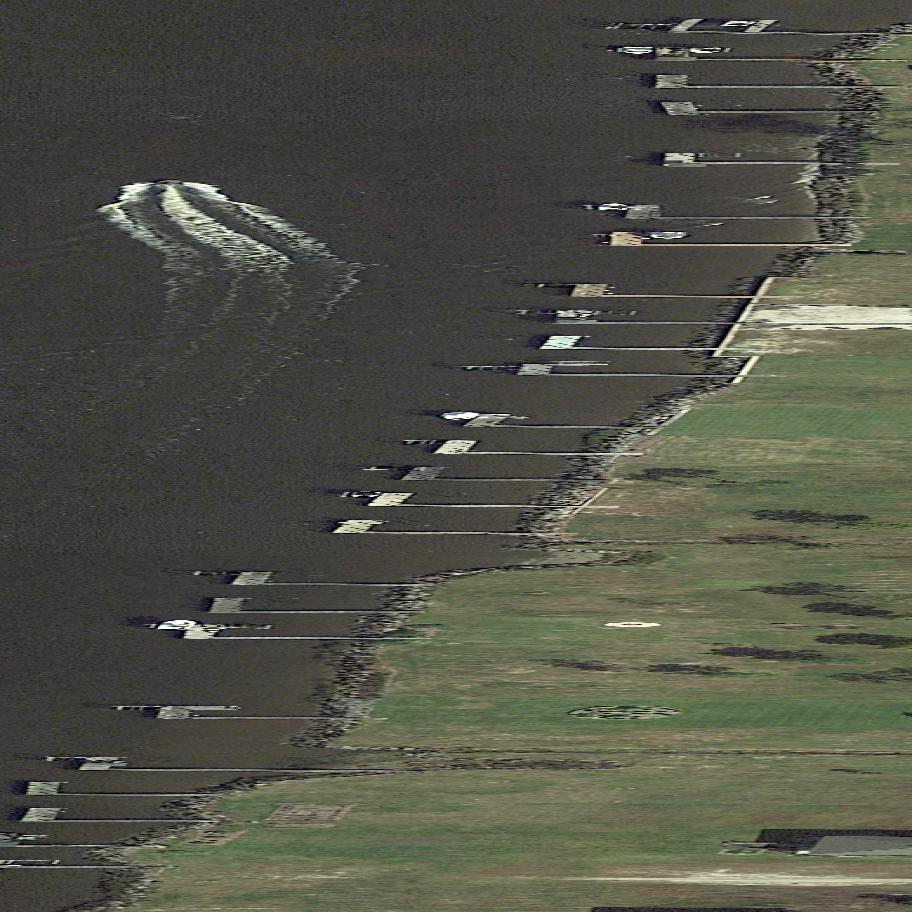ship: (149, 619, 205, 630), (433, 411, 485, 420), (151, 178, 191, 186), (10, 834, 54, 841), (344, 491, 389, 497), (650, 231, 688, 238), (594, 203, 631, 210), (622, 46, 655, 53), (719, 21, 759, 26), (690, 47, 723, 53)
